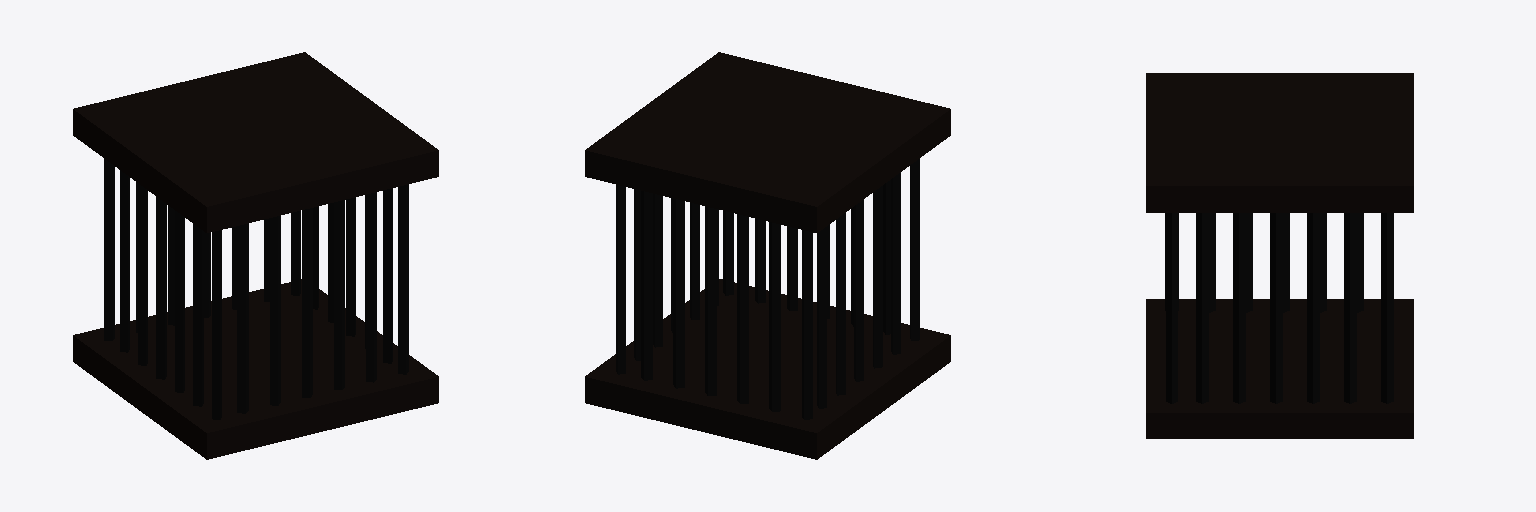
File: cage.obj
The picture shows the model from 3 angles: view 1: azimuth 30°, elevation 25°; view 2: azimuth 150°, elevation 25°; view 3: azimuth 270°, elevation 25°; orthographic projection.
Parts seen in each view (by area): view 1: Cage.Top_Plane.015, Cage.Bars_Cube.024, Cage.Bottom_Plane.015; view 2: Cage.Top_Plane.015, Cage.Bars_Cube.024, Cage.Bottom_Plane.015; view 3: Cage.Top_Plane.015, Cage.Bottom_Plane.015, Cage.Bars_Cube.024.
Part boxes in pixels (x1,y1,x2,y2): Cage.Top_Plane.015: (73,52,438,232); Cage.Bars_Cube.024: (104,159,408,419); Cage.Bottom_Plane.015: (73,279,438,459); Cage.Top_Plane.015: (585,52,950,232); Cage.Bars_Cube.024: (616,159,919,419); Cage.Bottom_Plane.015: (585,279,950,459); Cage.Top_Plane.015: (1146,73,1413,212); Cage.Bottom_Plane.015: (1146,299,1413,438); Cage.Bars_Cube.024: (1165,213,1393,403).
Size of the model in its own units: 53.53 by 55.67 by 53.53.